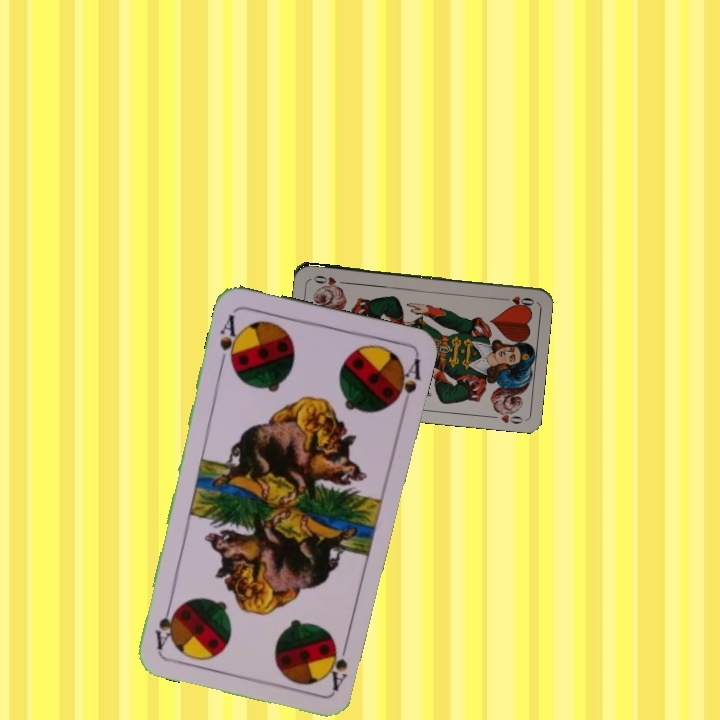HO: (496, 292, 537, 307)
SA: (215, 310, 243, 370), (324, 634, 351, 693)
